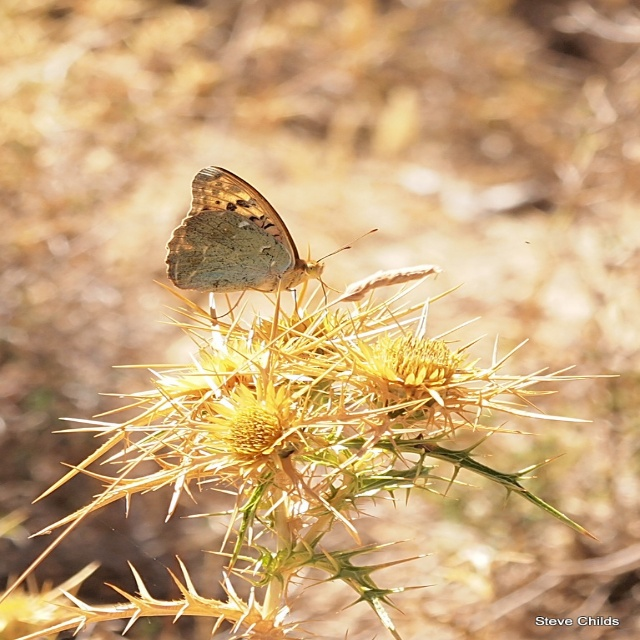Butterfly: (155, 162, 379, 309)
